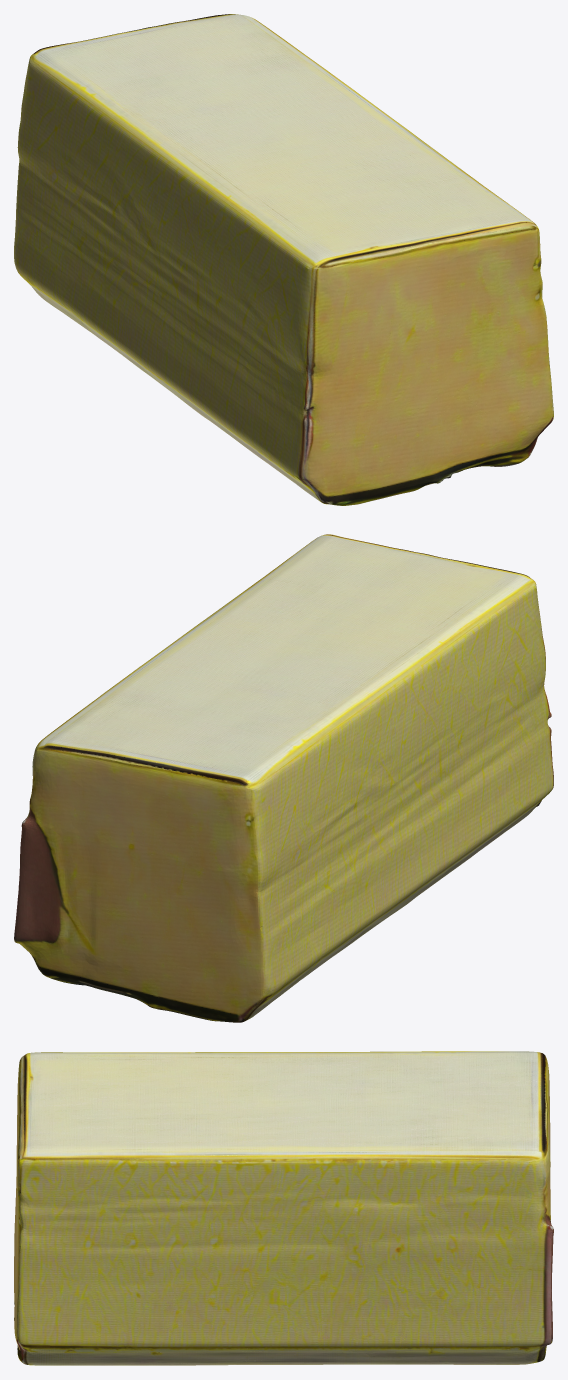
Rendered from image_0001_segmented.glb.
3 views of the same model, one above another, from view 1: azimuth 30°, elevation 25°; view 2: azimuth 150°, elevation 25°; view 3: azimuth 270°, elevation 25° (orthographic). The views are drawn at different scales.
Parts seen in each view (by area): view 1: tmp1mogkev8.ply; view 2: tmp1mogkev8.ply; view 3: tmp1mogkev8.ply.
Boxes of the visible parts, x1,y1,x2,y2 form: tmp1mogkev8.ply: (14, 14, 553, 505); tmp1mogkev8.ply: (14, 534, 553, 1022); tmp1mogkev8.ply: (14, 1051, 553, 1365).
Size of the model in its own units: 0.9764 by 0.9267 by 1.99.
Materials: 1 (1 with a texture image).
